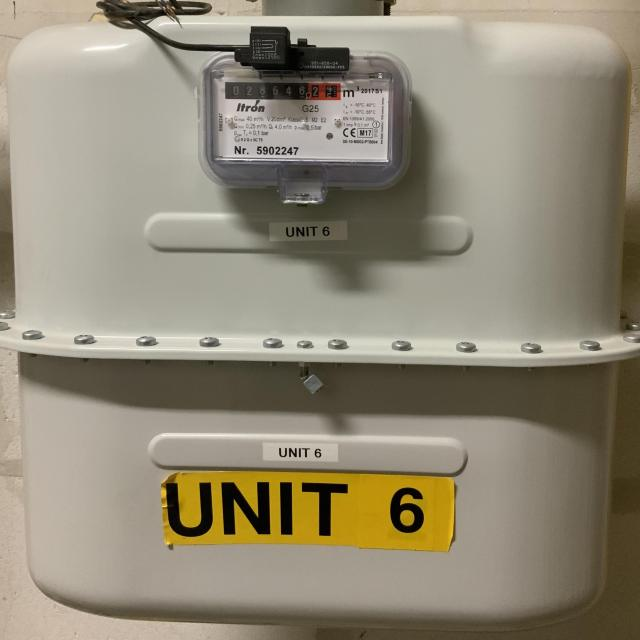gaz_meter: (208, 64, 390, 162)
indication: (225, 82, 342, 100)
